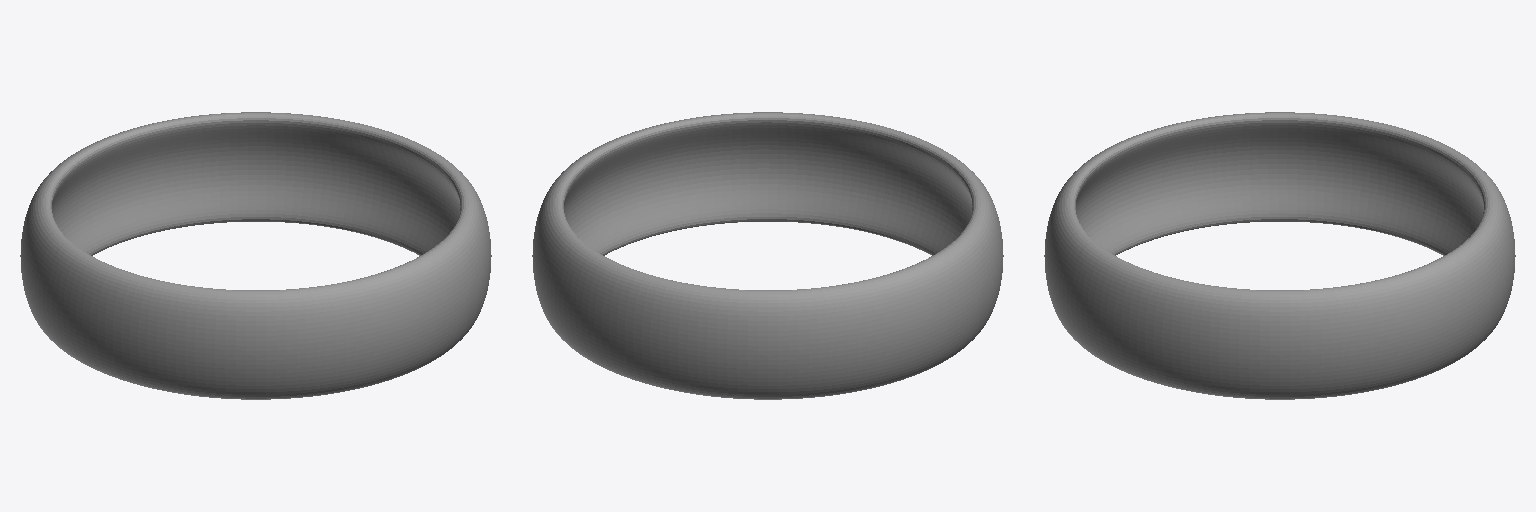
File: RingCentered.obj
3 renders of one model, left to right at view 1: azimuth 30°, elevation 25°; view 2: azimuth 150°, elevation 25°; view 3: azimuth 270°, elevation 25°, orthographic.
Parts seen in each view (by area): view 1: Ring.001; view 2: Ring.001; view 3: Ring.001.
Boxes of the visible parts, x1=… form: Ring.001: x1=20, y1=112, x2=491, y2=399; Ring.001: x1=532, y1=112, x2=1003, y2=399; Ring.001: x1=1044, y1=112, x2=1515, y2=399.
Bounding box in the file's own units: 17.55 × 4.42 × 17.55.